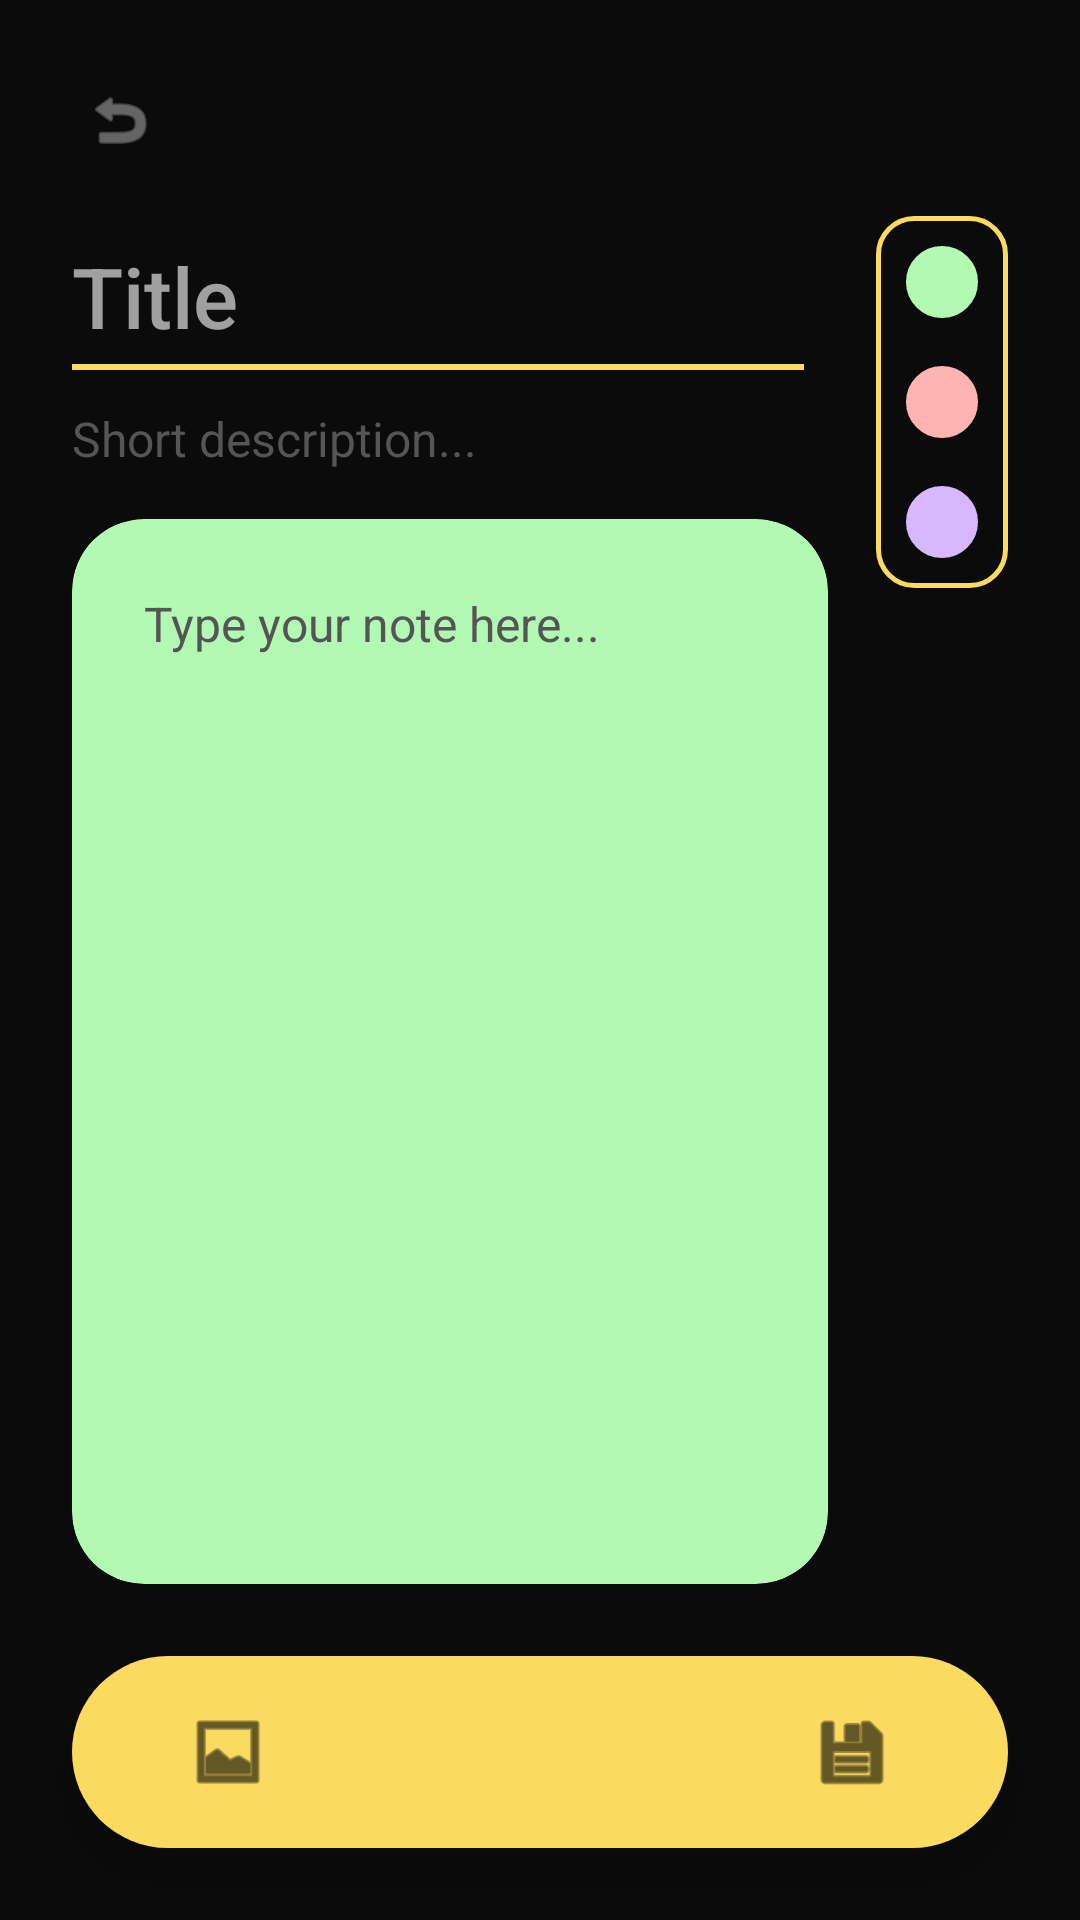

Icon click points for this 1080 x 1920 phone screenshot, format (x=x, y=y):
gallery: (x=228, y=1752)
revert: (x=121, y=120)
save: (x=852, y=1752)
